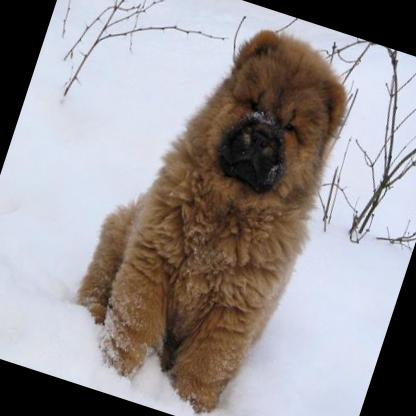chow: (49, 0, 369, 416)
